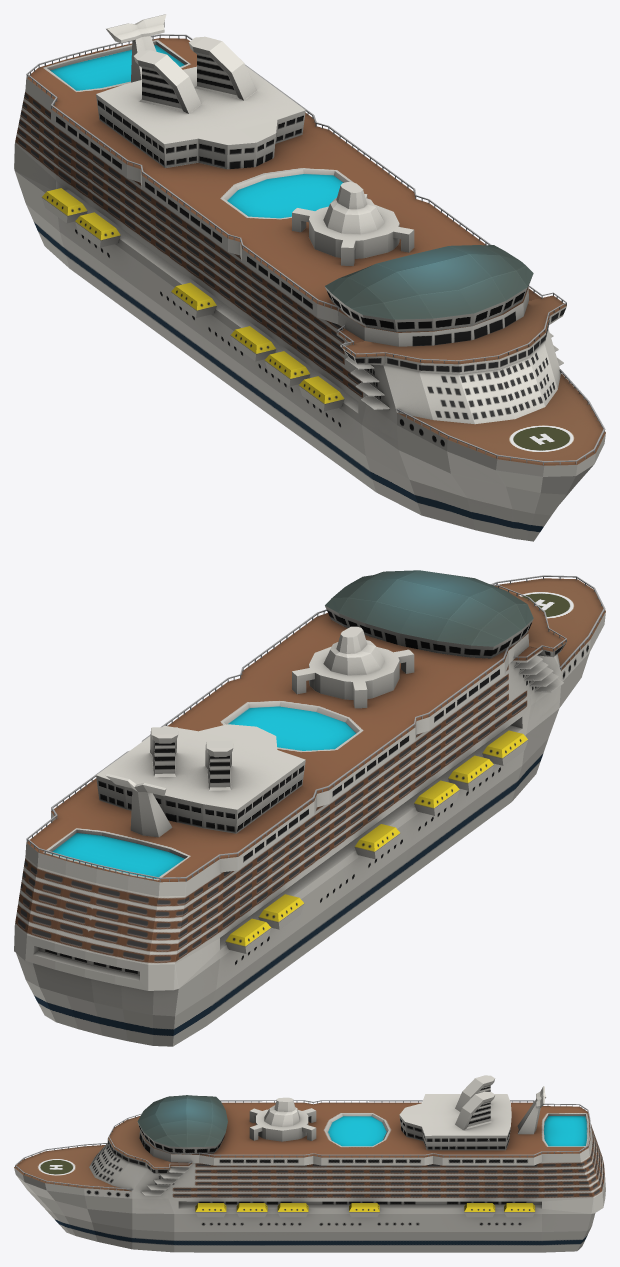
File: ship.glb
3 views of the same model, one above another, from view 1: azimuth 30°, elevation 25°; view 2: azimuth 150°, elevation 25°; view 3: azimuth 270°, elevation 25° (orthographic). The views are drawn at different scales.
Visible parts, largest first — view 1: CruiseLiner_mesh; view 2: CruiseLiner_mesh; view 3: CruiseLiner_mesh.
Boxes of the visible parts, bbox=[...] form: CruiseLiner_mesh: bbox=[14, 14, 605, 541]; CruiseLiner_mesh: bbox=[14, 570, 605, 1046]; CruiseLiner_mesh: bbox=[14, 1075, 605, 1252].
Size of the model in its own units: 9.36 by 10.06 by 37.7.
Materials: 1 (1 with a texture image).
